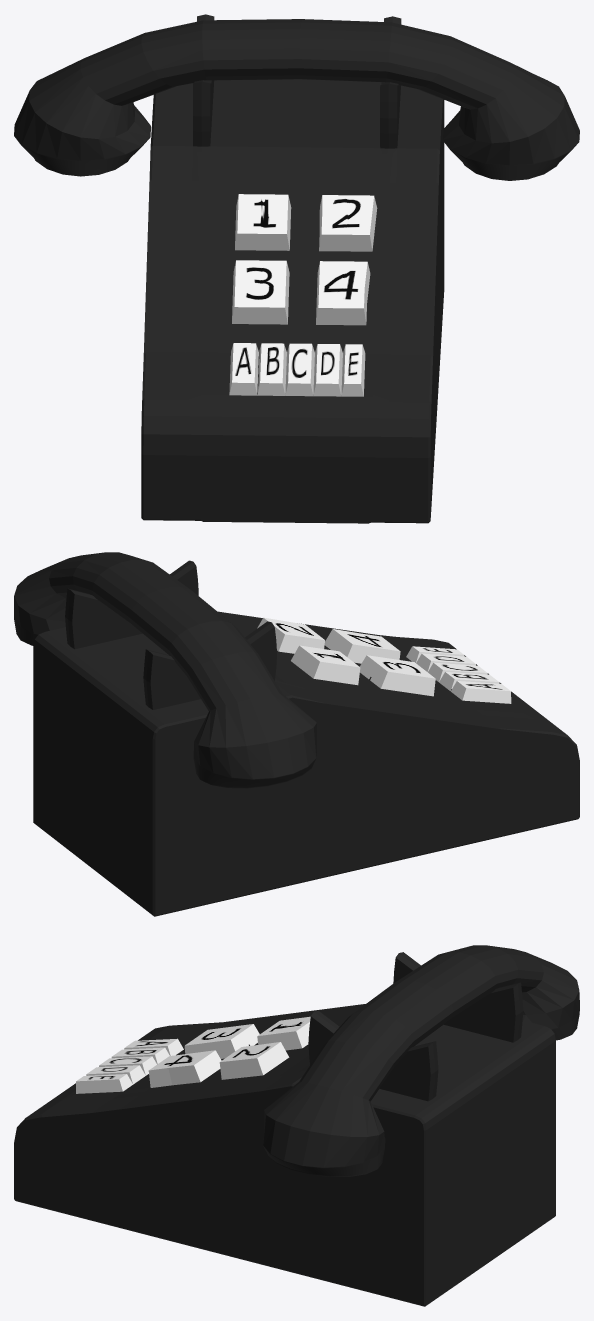
The model's file is Silly_Phone.FBX.
The picture shows the model from 3 angles, top to bottom: view 1: azimuth 30°, elevation 25°; view 2: azimuth 150°, elevation 25°; view 3: azimuth 270°, elevation 25°; orthographic projection. The views are drawn at different scales.
Visible parts, largest first — view 1: Phone, Phone_handle; view 2: Phone, Phone_handle; view 3: Phone, Phone_handle.
Part boxes in pixels (x1,y1,x2,y2): Phone: (141,14,444,523); Phone_handle: (14,19,579,180); Phone: (33,560,579,916); Phone_handle: (14,552,316,788); Phone: (14,952,555,1306); Phone_handle: (263,945,579,1176).
Size of what is drawn, in the model's own units: 44.42 by 24.04 by 46.93.
